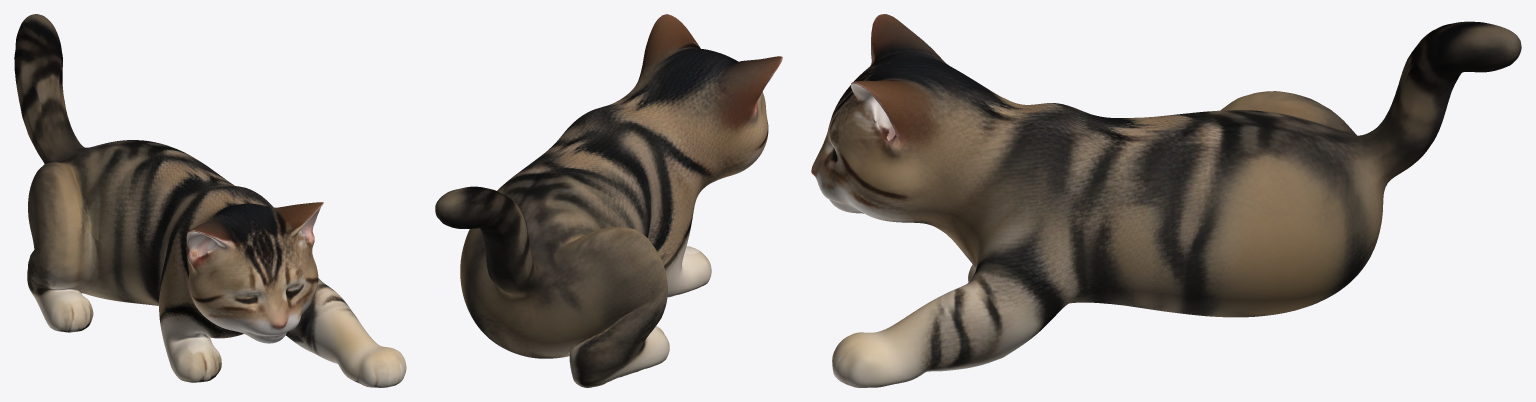
File: cat_stretching.glb
3 renders of one model, left to right at view 1: azimuth 30°, elevation 25°; view 2: azimuth 150°, elevation 25°; view 3: azimuth 270°, elevation 25°, orthographic. The views are drawn at different scales.
Parts seen in each view (by area): view 1: model; view 2: model; view 3: model.
Part boxes in pixels (<box>): model: <box>14,14,406,387</box>; model: <box>435,14,782,387</box>; model: <box>811,14,1521,387</box>.
Bounding box in the file's own units: 0.9118 × 0.8279 × 1.9.
Materials: 1 (1 with a texture image).
